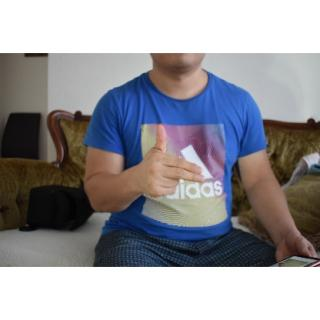GHAYN: (137, 121, 205, 202)
